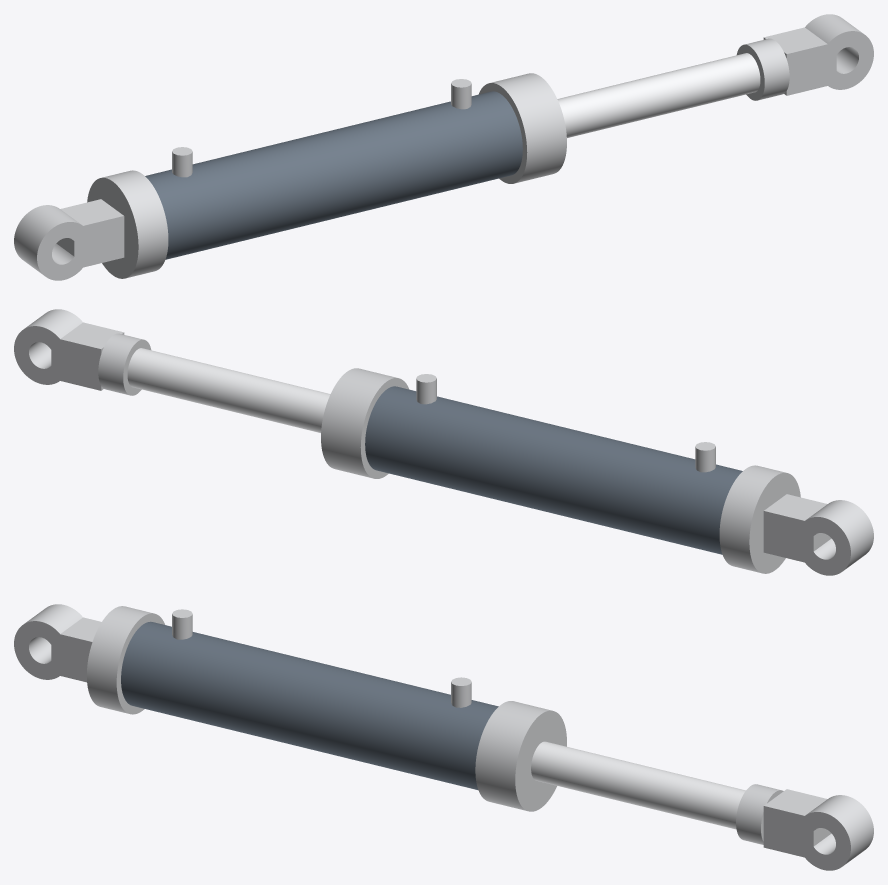
The model's file is hydraulic-cylinder.glb.
The picture shows the model from 3 angles, top to bottom: view 1: azimuth 30°, elevation 25°; view 2: azimuth 150°, elevation 25°; view 3: azimuth 330°, elevation 25°; orthographic projection.
Parts seen in each view (by area): view 1: hydraulic-cylinder; view 2: hydraulic-cylinder; view 3: hydraulic-cylinder.
Part boxes in pixels (<box>): hydraulic-cylinder: <box>14,14,873,280</box>; hydraulic-cylinder: <box>14,309,873,575</box>; hydraulic-cylinder: <box>14,604,873,870</box>.
Bounding box in the file's own units: 1.68 × 0.205 × 0.18.
